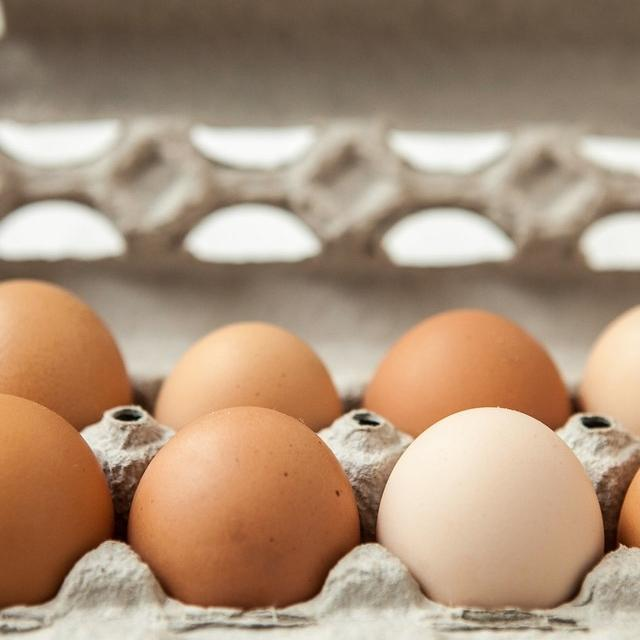egg: (127, 404, 361, 608), (375, 406, 605, 608), (362, 308, 571, 437), (0, 391, 114, 608), (153, 320, 342, 432), (0, 276, 132, 429), (578, 297, 640, 446)
